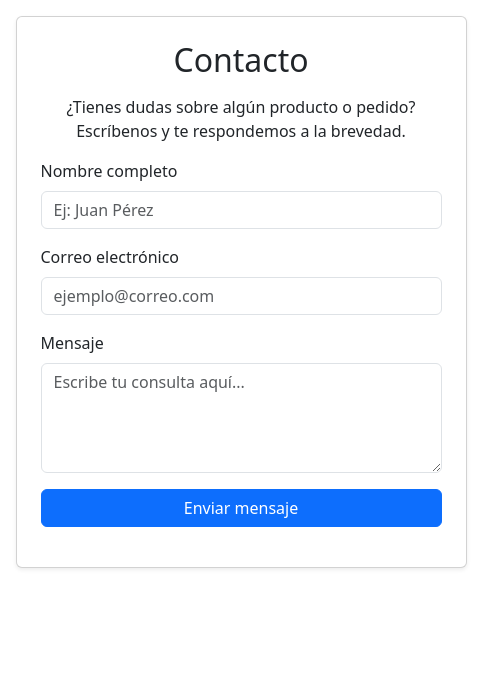
Test: ContactForm › muestra solo el error del correo si el correo es inválido
The image size is (484, 686).
Type "Juan Pérez" into the field labelled "Nombre completo". click: coordinates (241, 210)
box: [40,191,442,229]
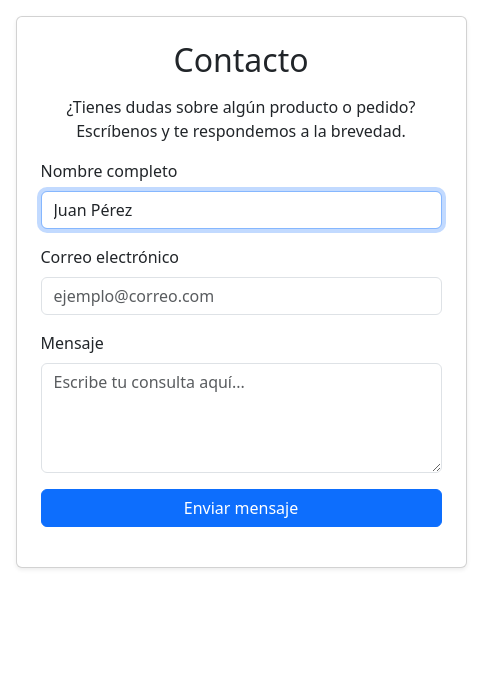
Type "correo-malo" into the field labelled "Correo electrónico". click: coordinates (241, 296)
box: [40,277,442,315]
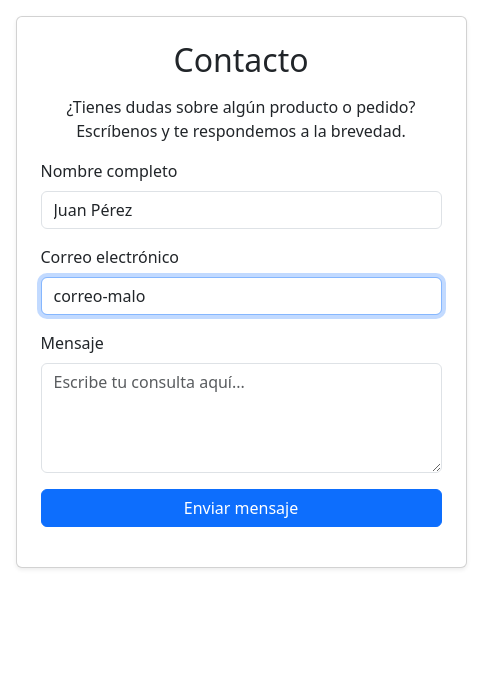
Type "Quiero consultar por una guitarra" into the text box labelled "Mensaje". click: coordinates (241, 418)
box: [40,363,442,473]
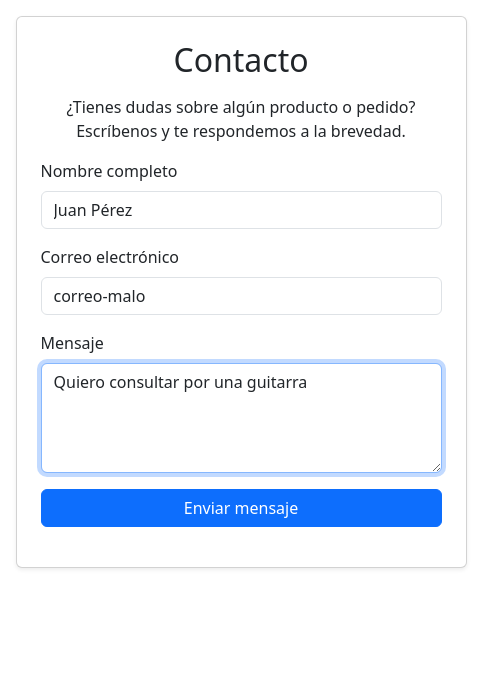
Click the button "Enviar mensaje". click: coordinates (241, 508)
box: [40,489,442,527]
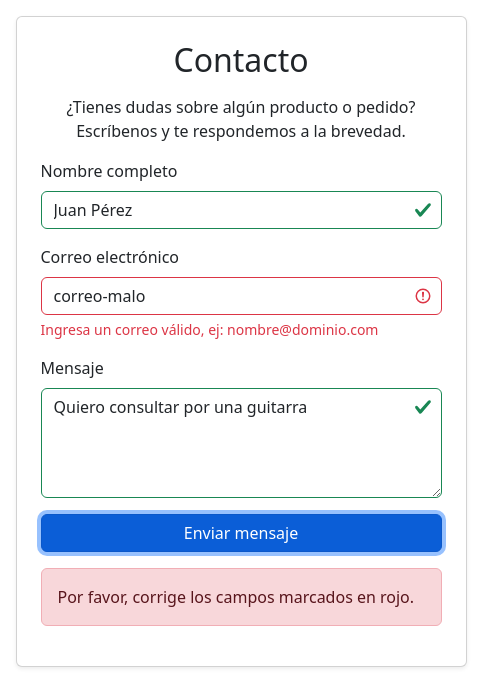
Expected: the text "Ingresa un correo válido, ej: nombre@dominio.com" is shown, [40,320,378,339]
